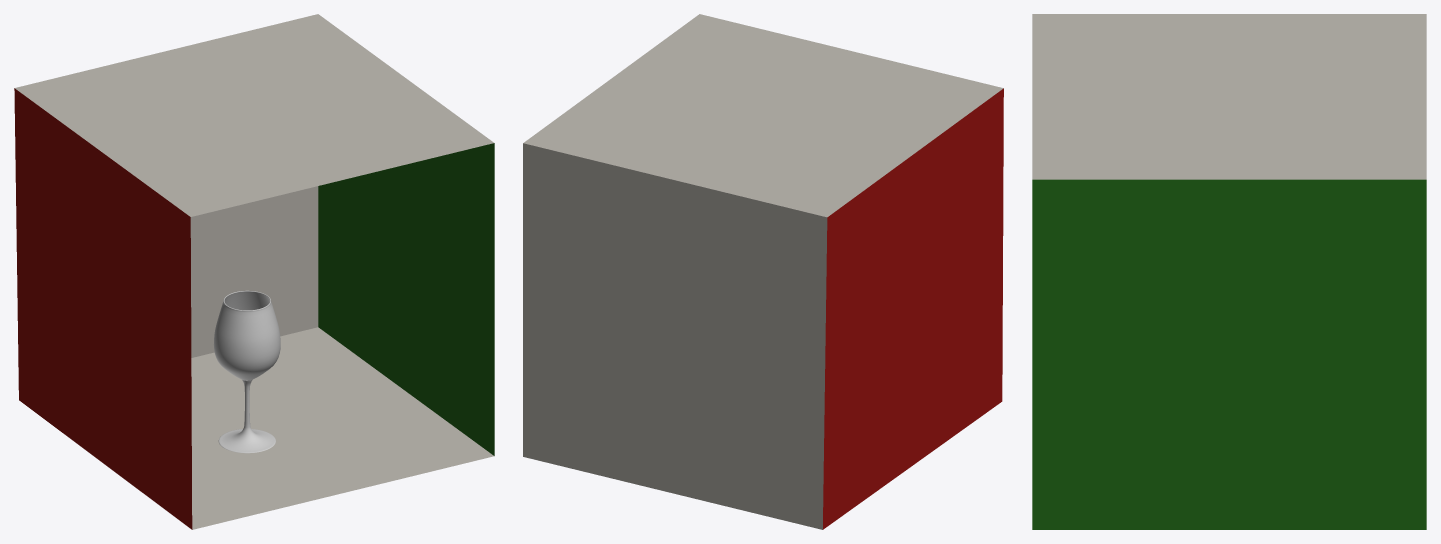
Rendered from wineglass-cornellbox.obj.
The picture shows the model from 3 angles, left to right: view 1: azimuth 30°, elevation 25°; view 2: azimuth 150°, elevation 25°; view 3: azimuth 270°, elevation 25°; orthographic projection. The views are drawn at different scales.
Visible parts, largest first — view 1: left_wall, ceiling, right_wall, ground, back_wall, Cylinder; view 2: back_wall, left_wall, ceiling; view 3: right_wall, ceiling.
Boxes of the visible parts, x1=… form: left_wall: x1=14, y1=88, x2=192, y2=529; ceiling: x1=15, y1=14, x2=493, y2=216; right_wall: x1=318, y1=143, x2=494, y2=455; ground: x1=191, y1=327, x2=493, y2=529; back_wall: x1=190, y1=186, x2=318, y2=357; Cylinder: x1=213, y1=290, x2=280, y2=453; back_wall: x1=523, y1=143, x2=827, y2=529; left_wall: x1=823, y1=88, x2=1003, y2=529; ceiling: x1=523, y1=14, x2=1003, y2=217; right_wall: x1=1032, y1=179, x2=1426, y2=529; ceiling: x1=1032, y1=14, x2=1426, y2=179.
Size of the model in its own units: 2.02 by 2 by 2.03.
